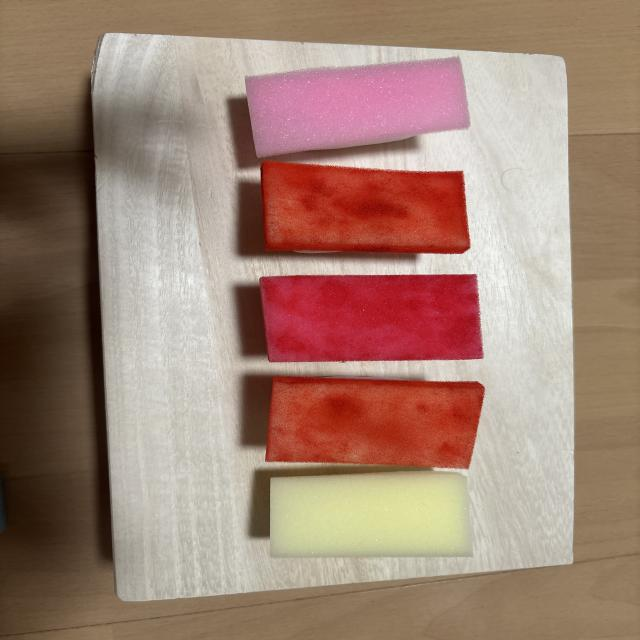maguro: (260, 275, 483, 362)
salmon: (265, 377, 484, 469), (261, 161, 470, 254)
tai: (246, 57, 469, 157)
tamago: (270, 471, 472, 557)
